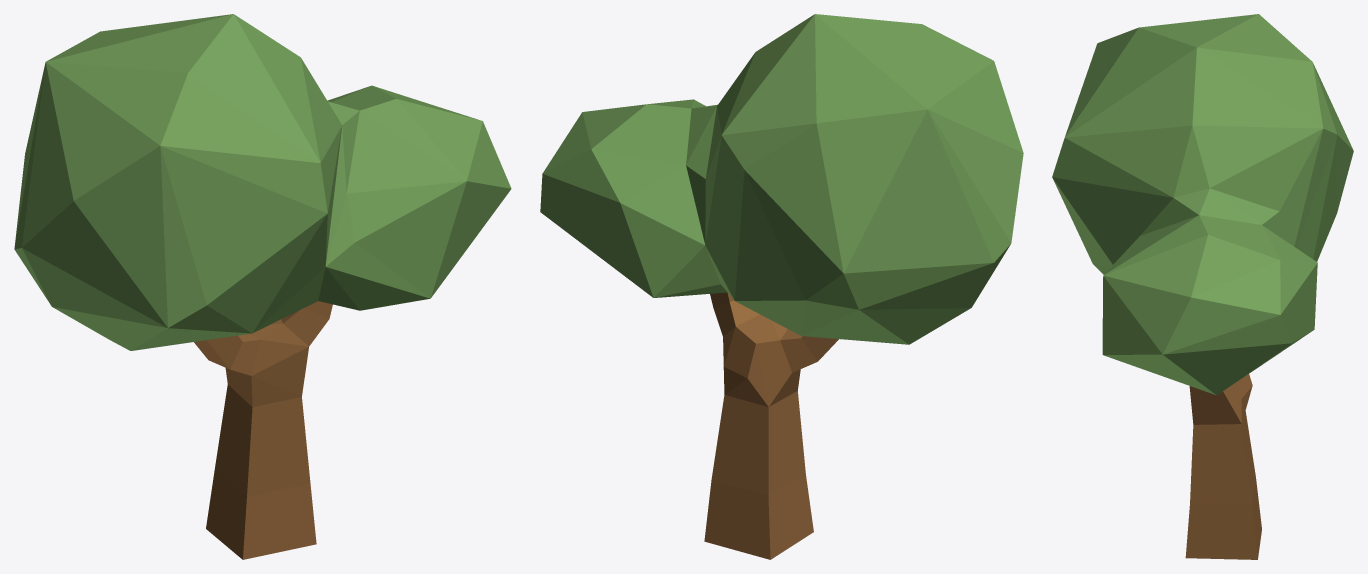
Rendered from fabz_tree_forest.glb.
The picture shows the model from 3 angles, left to right: view 1: azimuth 30°, elevation 25°; view 2: azimuth 150°, elevation 25°; view 3: azimuth 270°, elevation 25°; orthographic projection. The views are drawn at different scales.
Parts seen in each view (by area): view 1: fabz_tree_forest; view 2: fabz_tree_forest; view 3: fabz_tree_forest.
Part boxes in pixels (left/top/right/bottom): fabz_tree_forest: left=14, top=14, right=511, bottom=559; fabz_tree_forest: left=540, top=14, right=1023, bottom=559; fabz_tree_forest: left=1052, top=14, right=1353, bottom=559.
Bounding box in the file's own units: 0.82 × 0.9138 × 0.523.
